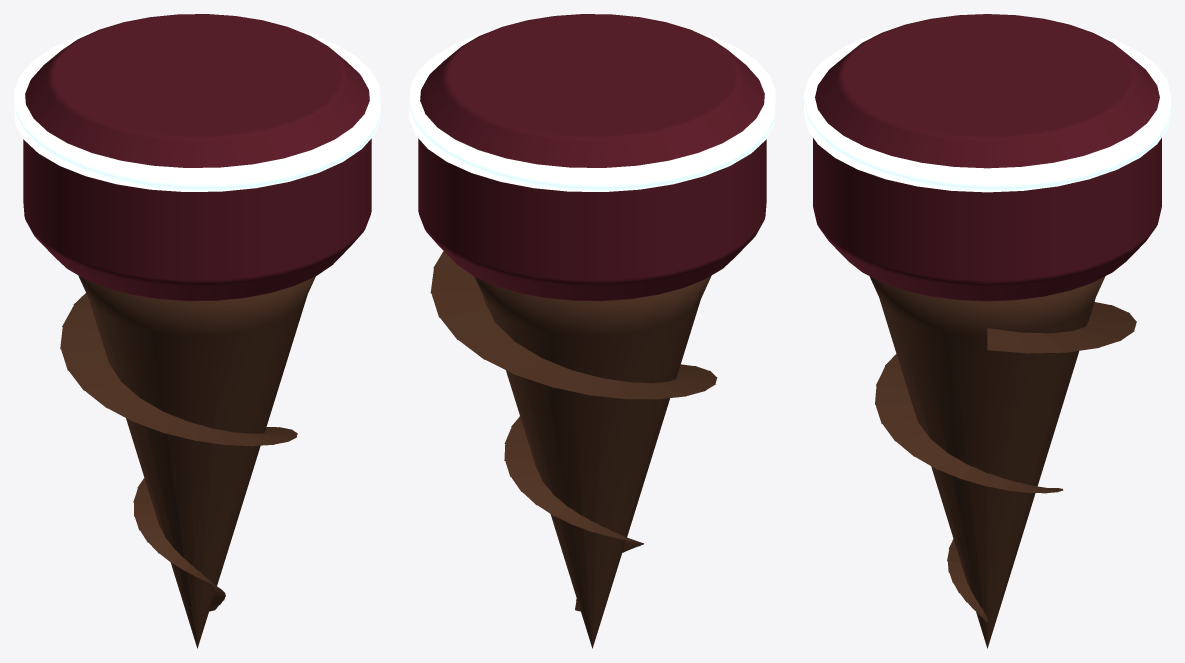
The model's file is Drill_Collar.glb.
3 renders of one model, left to right at view 1: azimuth 30°, elevation 25°; view 2: azimuth 150°, elevation 25°; view 3: azimuth 270°, elevation 25°, orthographic.
Visible parts, largest first — view 1: H_Collar, H_Bit, H_CollarNeon; view 2: H_Collar, H_Bit, H_CollarNeon; view 3: H_Collar, H_Bit, H_CollarNeon.
Boxes of the visible parts, x1,y1,x2,y2 form: H_Collar: (23, 14, 371, 301); H_Bit: (60, 275, 315, 648); H_CollarNeon: (14, 30, 380, 191); H_Collar: (418, 14, 766, 301); H_Bit: (430, 251, 717, 648); H_CollarNeon: (409, 30, 775, 191); H_Collar: (813, 14, 1161, 301); H_Bit: (869, 276, 1136, 648); H_CollarNeon: (804, 30, 1170, 192).
Size of the model in its own units: 2.3 by 3.97 by 2.3.
